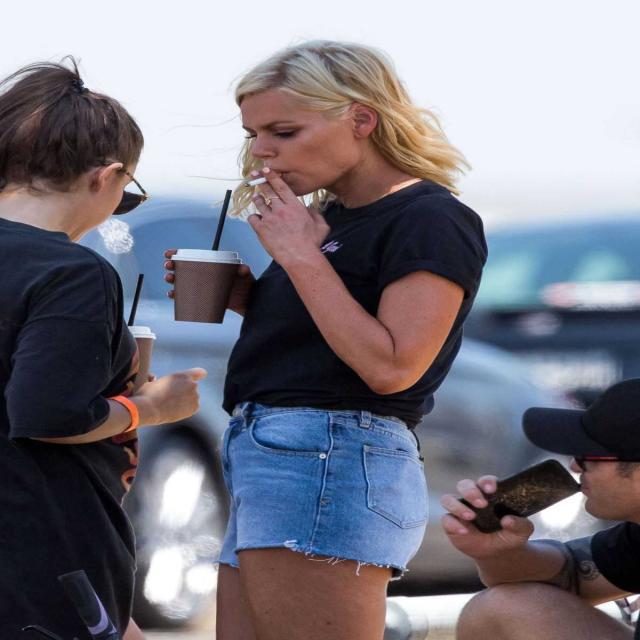Smooking: (240, 172, 271, 197)
